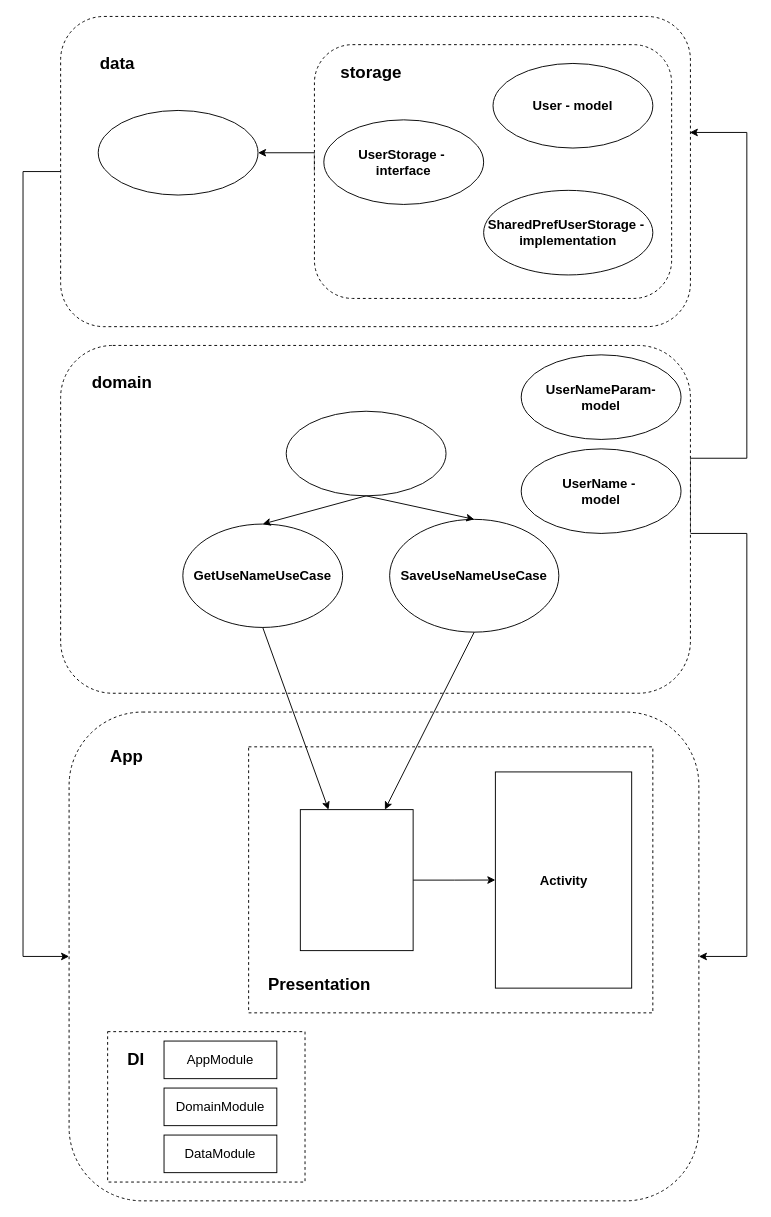
Some shapes in this 771 by 1217 pixel diagram are drawn without their labels. The centre of each missing label's shape, as x and y in pixels:
"UserRepository - interface" belongs at point (365, 453).
"UserRepositoryImpl - implementation" belongs at point (177, 152).
"ViewModel" belongs at point (356, 880).
